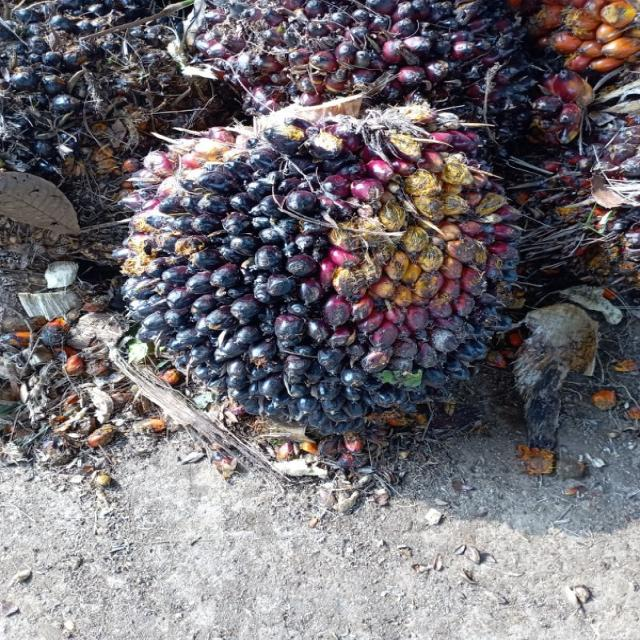fraksi 00: (110, 124, 518, 432), (0, 0, 190, 164)
